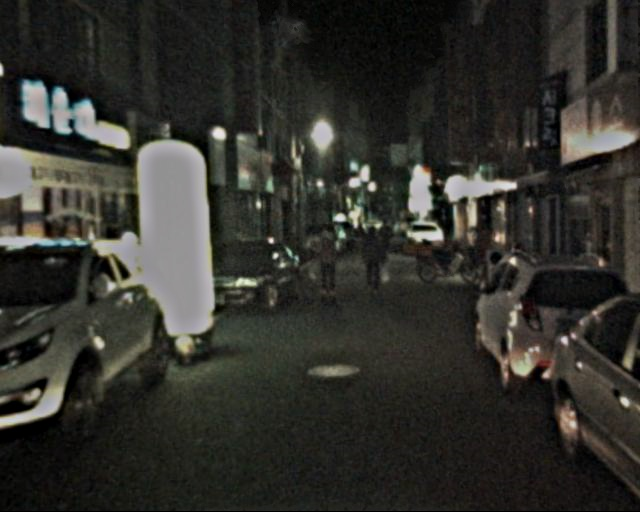person: (356, 222, 387, 298), (313, 224, 341, 293)
